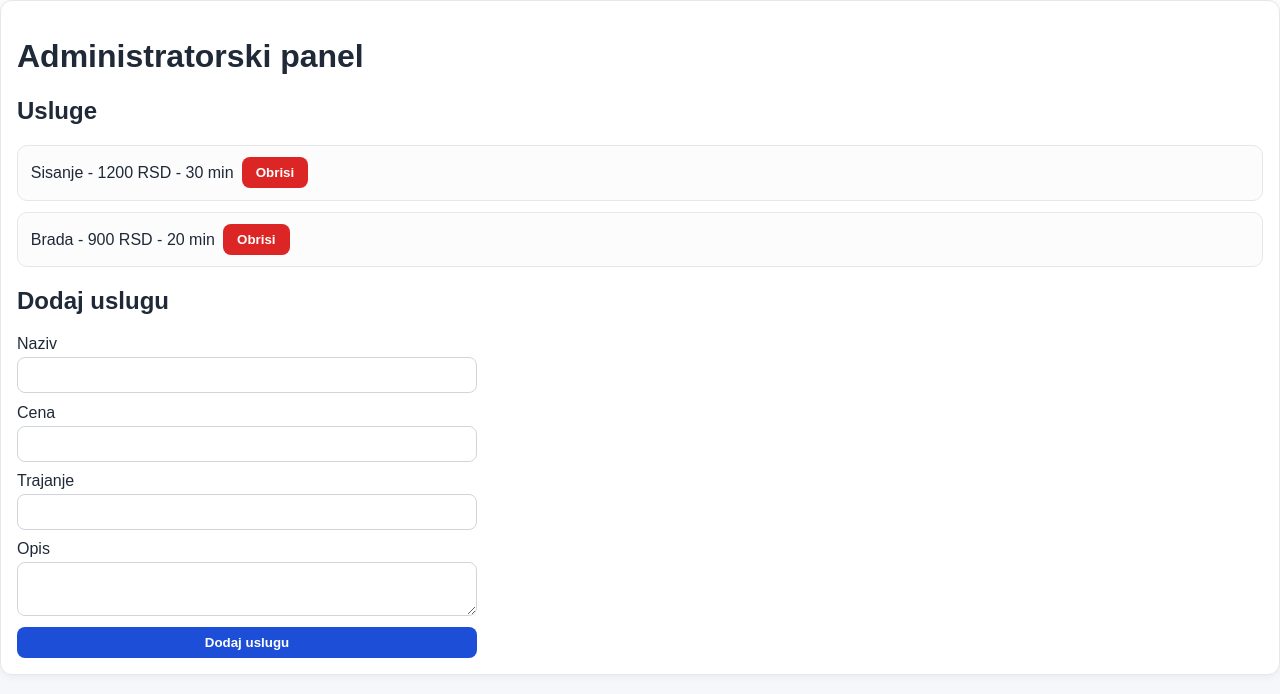
Test: AdminDashboard › renders list, adds a service, and deletes a service
Expected: the list item "Sisanje - 1200 RSD - 30 min Obrisi" is shown, left=17, top=145, right=1263, bottom=201
Expected: the list item "Brada - 900 RSD - 20 min Obrisi" is shown, left=17, top=212, right=1263, bottom=268
Step 1. Type "Farbanje" into the field labelled "Naziv" → point(247, 375), box left=17, top=357, right=477, bottom=393
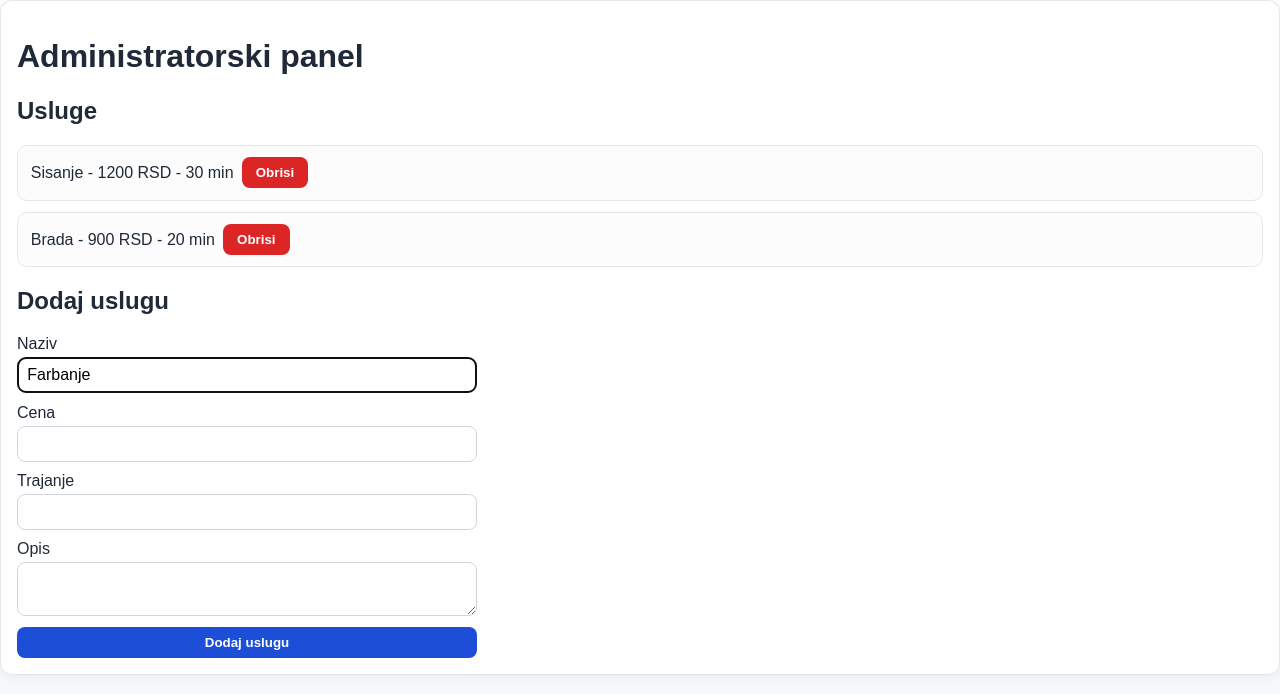
Step 2. Type "2600" into the number field labelled "Cena" → point(247, 444), box left=17, top=426, right=477, bottom=462
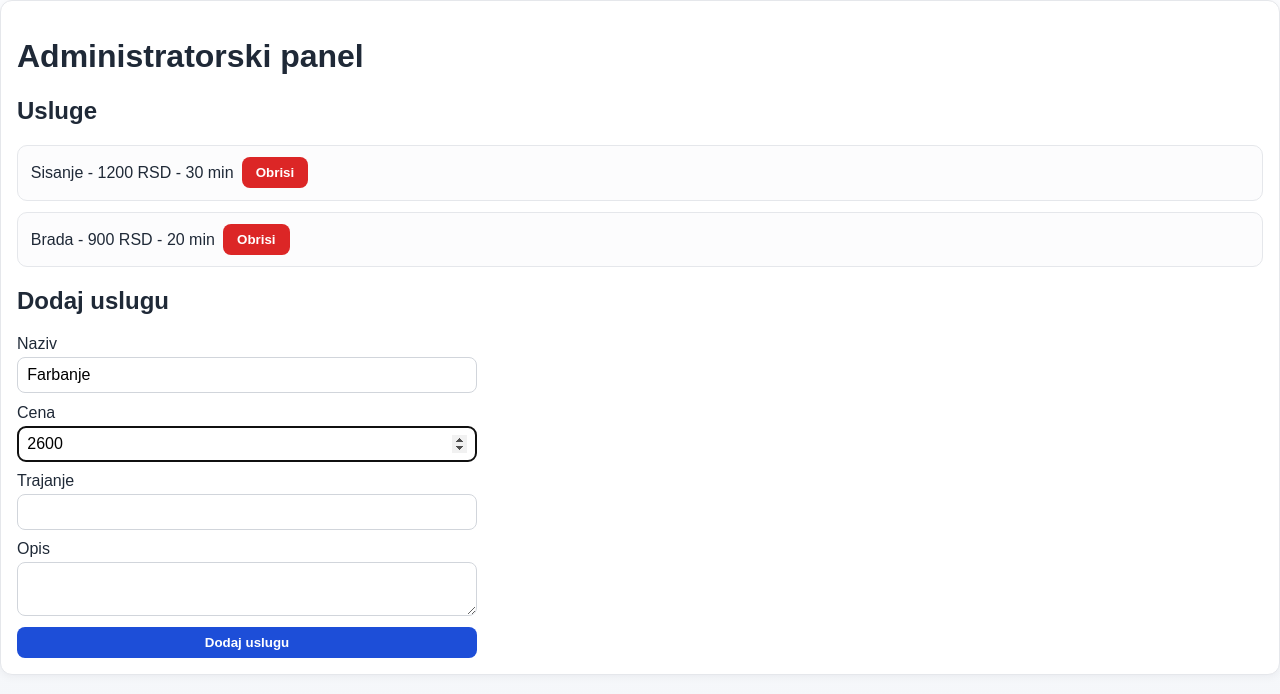
Step 3. Type "60" into the number field labelled "Trajanje" → point(247, 512), box left=17, top=494, right=477, bottom=530
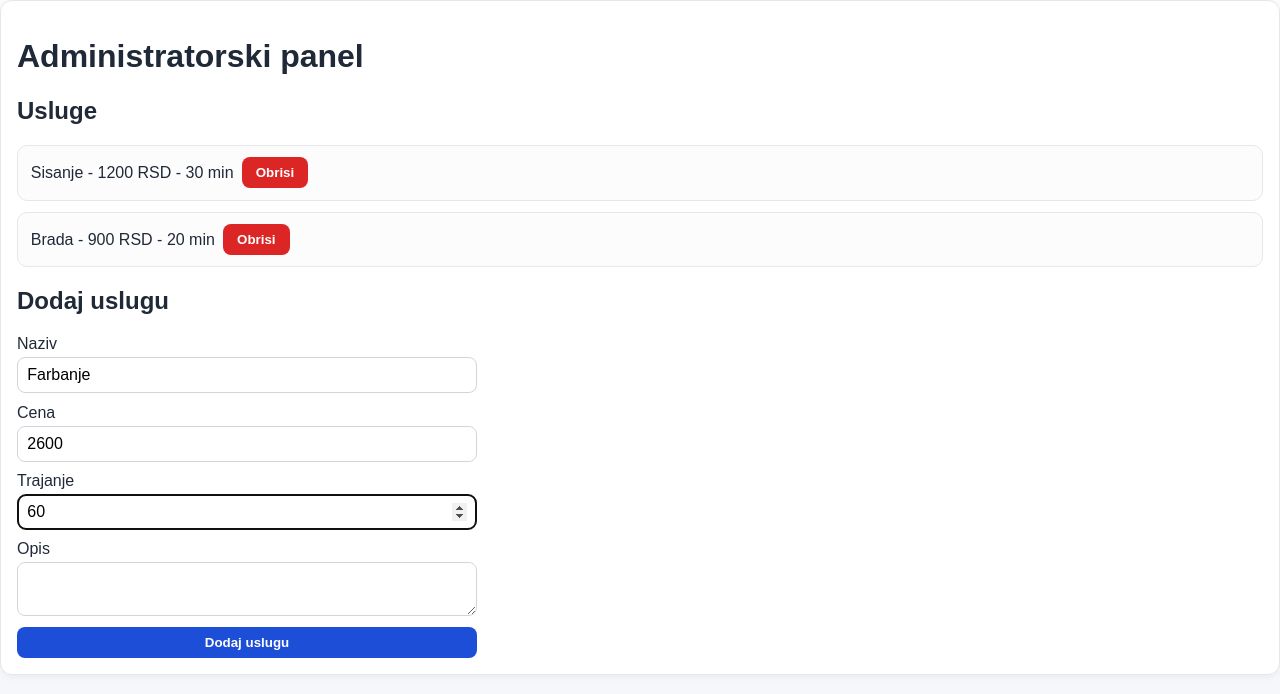
Step 4. Type "Test" into the text box labelled "Opis" → point(247, 590), box left=17, top=562, right=477, bottom=616
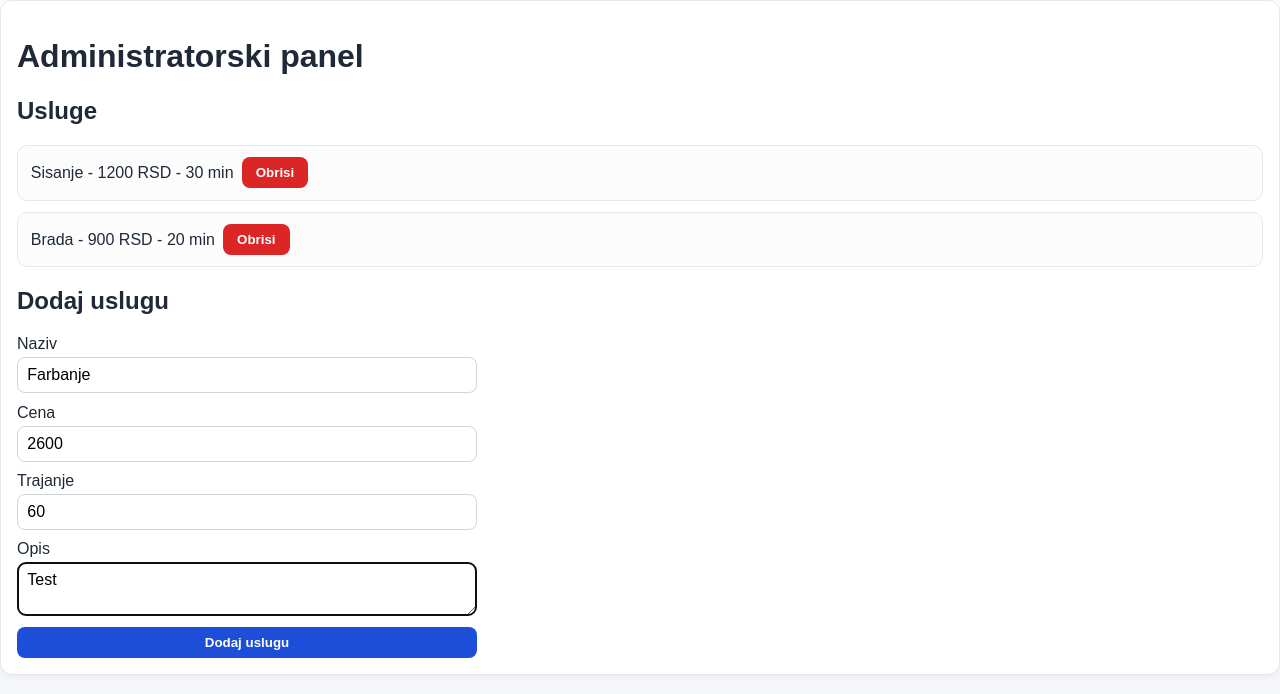
Step 5. Click the button "Dodaj uslugu" → point(247, 642), box left=17, top=627, right=477, bottom=658
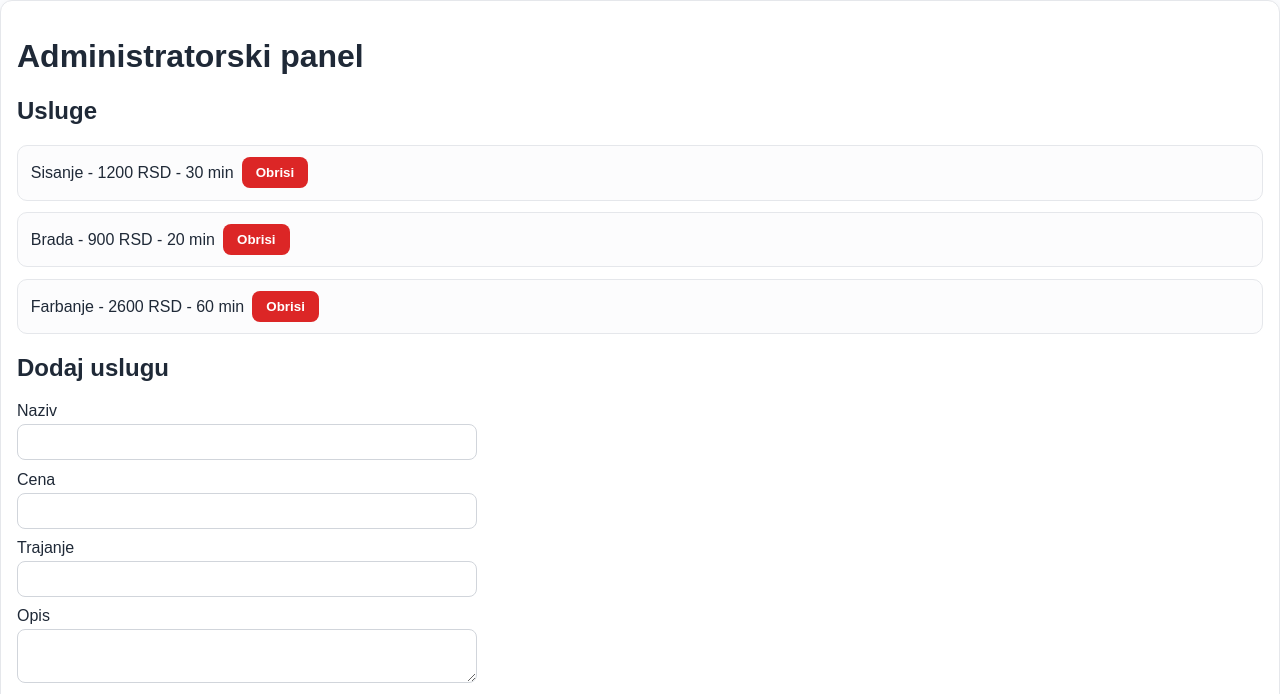
Expected: the list item "Farbanje - 2600 RSD - 60 min Obrisi" is shown, left=17, top=279, right=1263, bottom=334
Step 6. Click the button "Obrisi" in the row of "Sisanje" → point(275, 173), box left=242, top=157, right=308, bottom=188
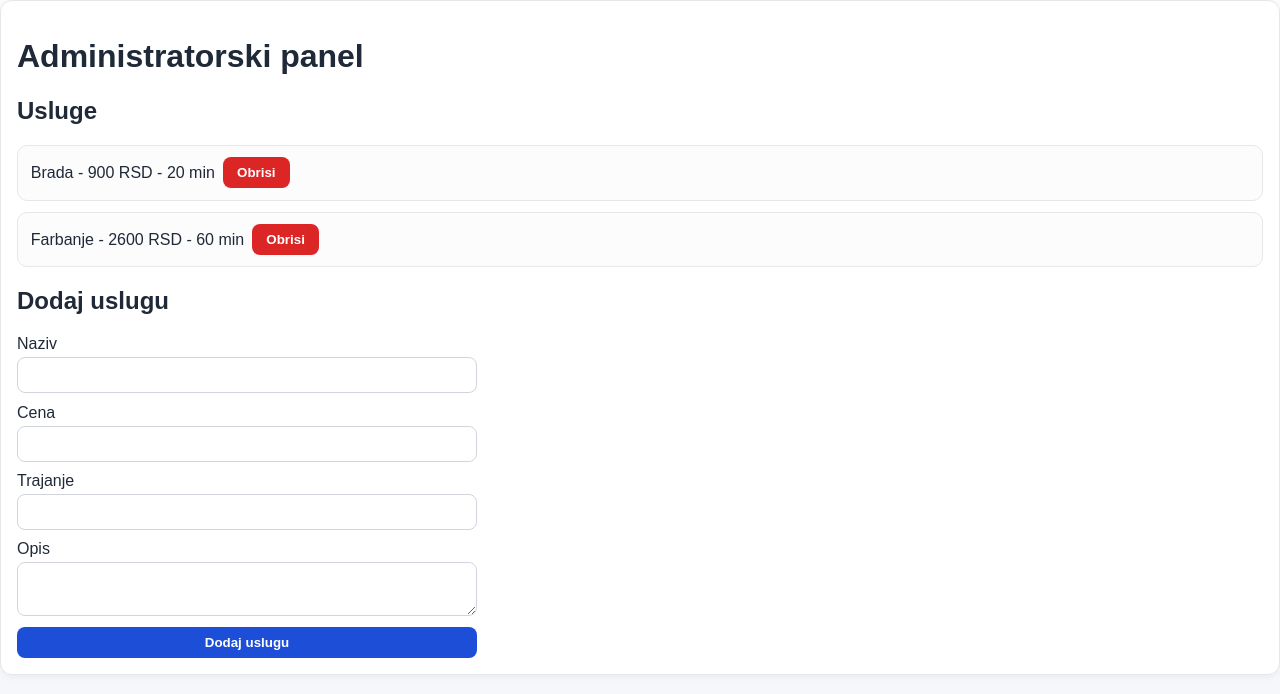
Expected: the list item "Sisanje - 1200 RSD - 30 min" is gone
